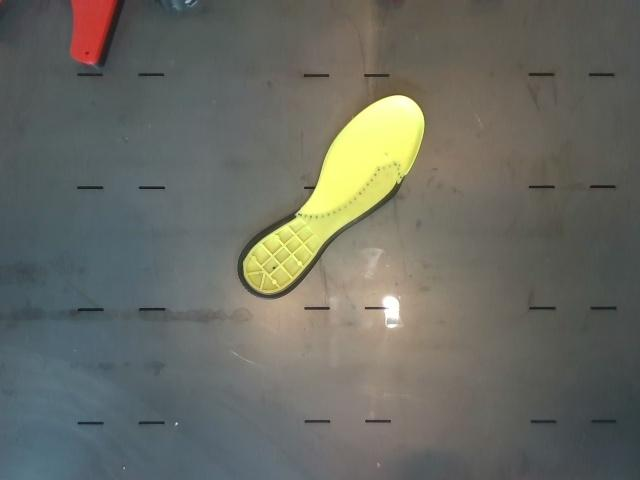shoes: (238, 97, 424, 297)
